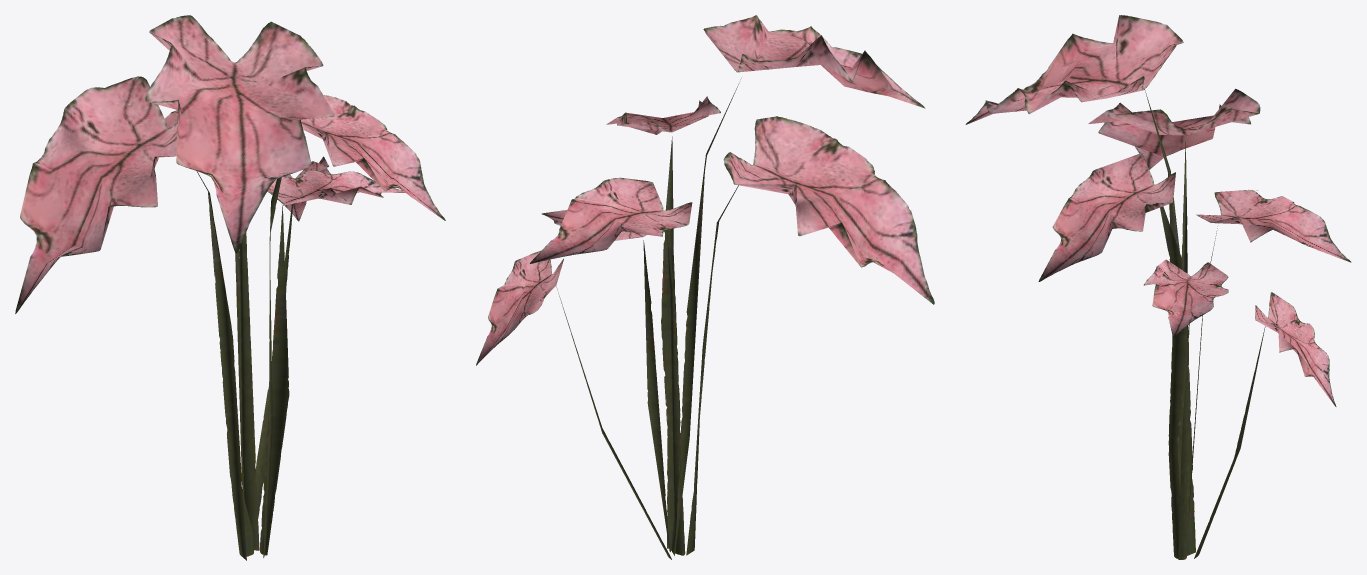
The model's file is pink-plant.lod1.glb.
3 renders of one model, left to right at view 1: azimuth 30°, elevation 25°; view 2: azimuth 150°, elevation 25°; view 3: azimuth 270°, elevation 25°, orthographic. The views are drawn at different scales.
Visible parts, largest first — view 1: StemA_low_T_PinkLeaf_0; view 2: StemA_low_T_PinkLeaf_0; view 3: StemA_low_T_PinkLeaf_0.
Part boxes in pixels (box(x1,y1,x2,y2)): StemA_low_T_PinkLeaf_0: box(15, 15, 445, 560); StemA_low_T_PinkLeaf_0: box(476, 15, 934, 559); StemA_low_T_PinkLeaf_0: box(965, 15, 1351, 559).
Size of the model in its own units: 0.9093 by 1.19 by 0.8491.
Materials: 1 (1 with a texture image).
